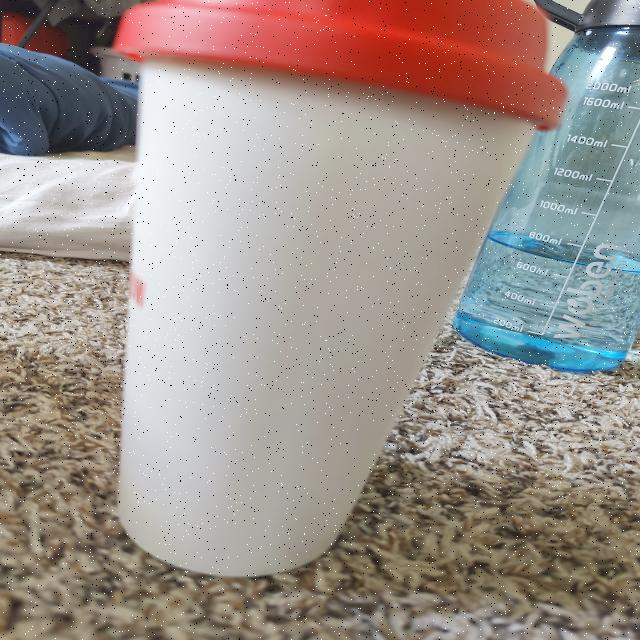mug: (111, 0, 537, 565)
